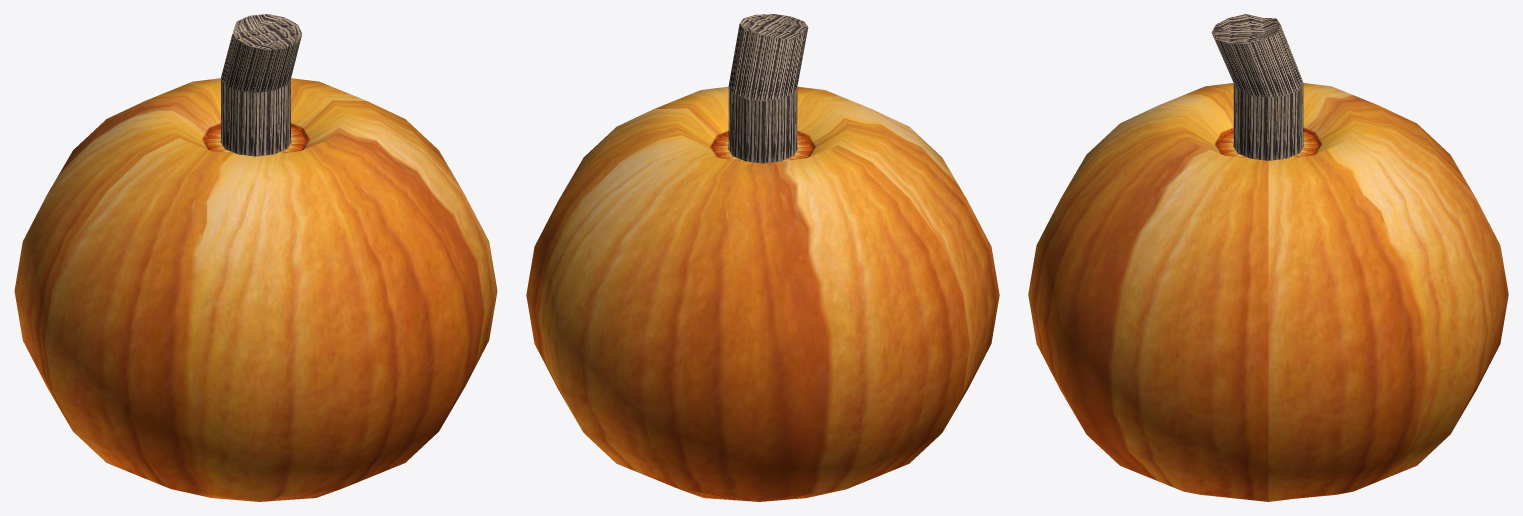
Rendered from pumpkin.fbx.
The picture shows the model from 3 angles, left to right: view 1: azimuth 30°, elevation 25°; view 2: azimuth 150°, elevation 25°; view 3: azimuth 270°, elevation 25°; orthographic projection. The views are drawn at different scales.
Visible parts, largest first — view 1: polySurface1, stem; view 2: polySurface1, stem; view 3: polySurface1, stem.
Part boxes in pixels (x1=…): polySurface1: x1=14, y1=78, x2=497, y2=501; stem: x1=221, y1=14, x2=301, y2=156; polySurface1: x1=526, y1=86, x2=999, y2=501; stem: x1=728, y1=14, x2=808, y2=163; polySurface1: x1=1028, y1=83, x2=1508, y2=501; stem: x1=1211, y1=14, x2=1303, y2=160.
Size of the model in its own units: 1.69 by 1.69 by 1.67.
